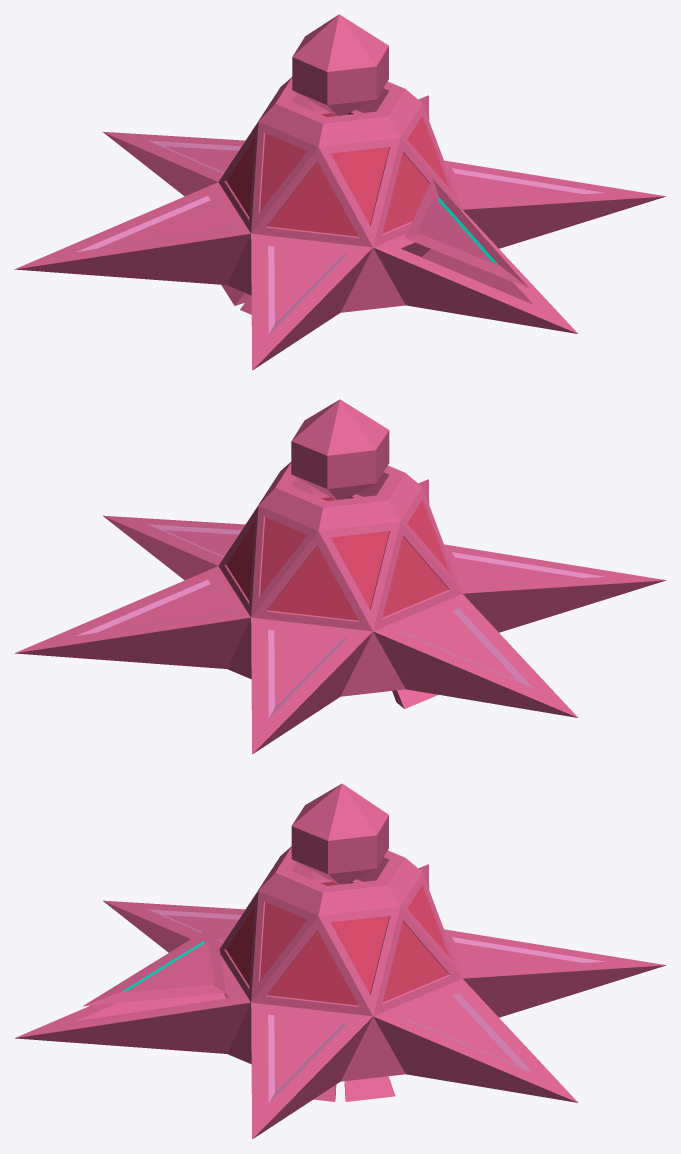
File: Kevin_Spaceship.fbx
3 views of the same model, one above another, from view 1: azimuth 30°, elevation 25°; view 2: azimuth 150°, elevation 25°; view 3: azimuth 270°, elevation 25° (orthographic).
Parts seen in each view (by area): view 1: Cylinder; view 2: Cylinder; view 3: Cylinder.
Part boxes in pixels (<box>): Cylinder: <box>14,14,666,370</box>; Cylinder: <box>14,399,665,754</box>; Cylinder: <box>15,783,666,1139</box>.
Size of the model in its own units: 498 by 226 by 499.
